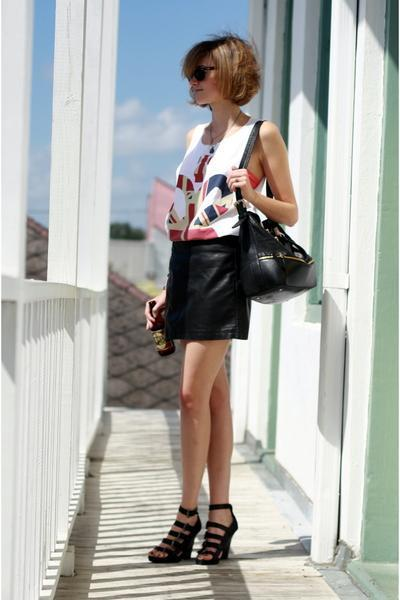bag: (230, 204, 311, 299)
shirt: (166, 122, 275, 246)
shoe: (148, 492, 237, 564)
skirt: (149, 235, 251, 342)
sunglass: (183, 41, 213, 82)
